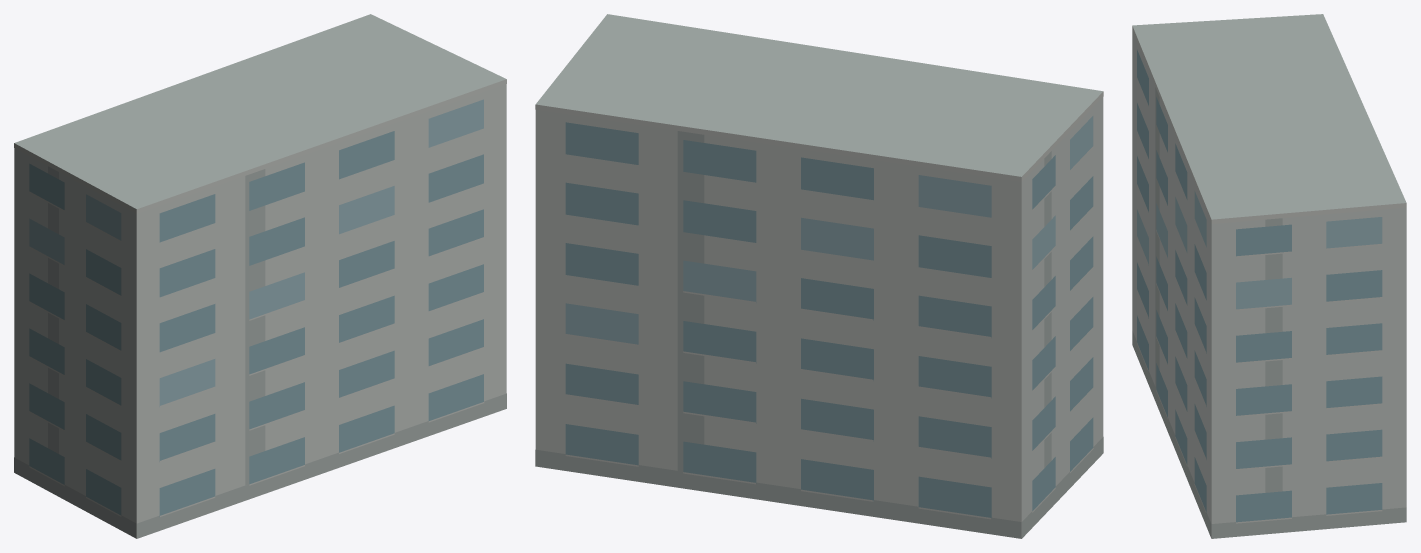
Rendered from survey-upis-32991934.glb.
3 views of the same model, side by side, from view 1: azimuth 30°, elevation 25°; view 2: azimuth 150°, elevation 25°; view 3: azimuth 270°, elevation 25° (orthographic). The views are drawn at different scales.
Parts seen in each view (by area): view 1: survey-upis-32991934.tmp; view 2: survey-upis-32991934.tmp; view 3: survey-upis-32991934.tmp.
Boxes of the visible parts, x1,y1,x2,y2 form: survey-upis-32991934.tmp: (14, 14, 506, 538); survey-upis-32991934.tmp: (535, 14, 1103, 538); survey-upis-32991934.tmp: (1132, 14, 1406, 538).
Bounding box in the file's own units: 23.35 × 16.9 × 13.17.
